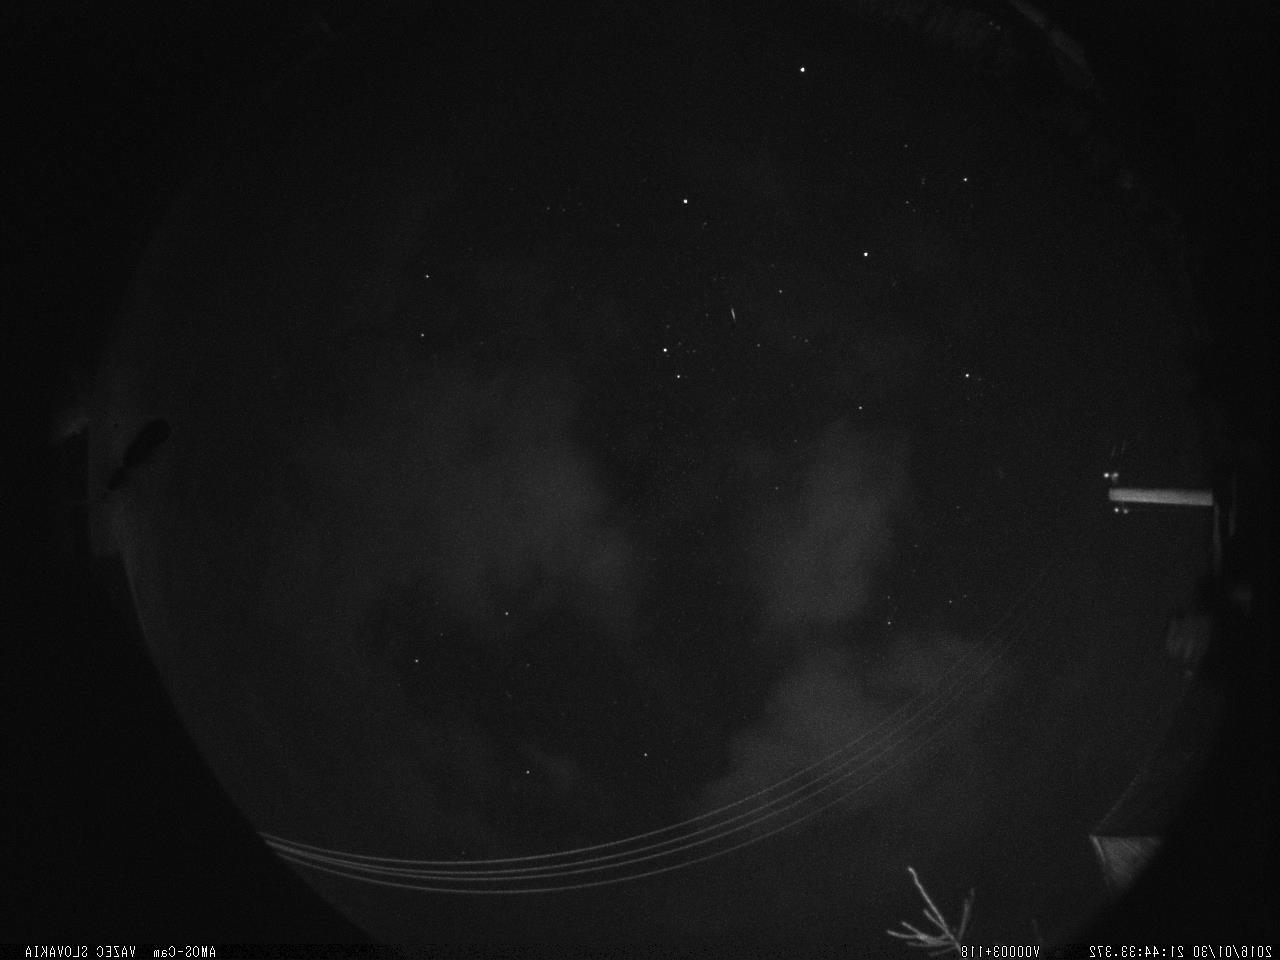meteor: (723, 299, 744, 328)
